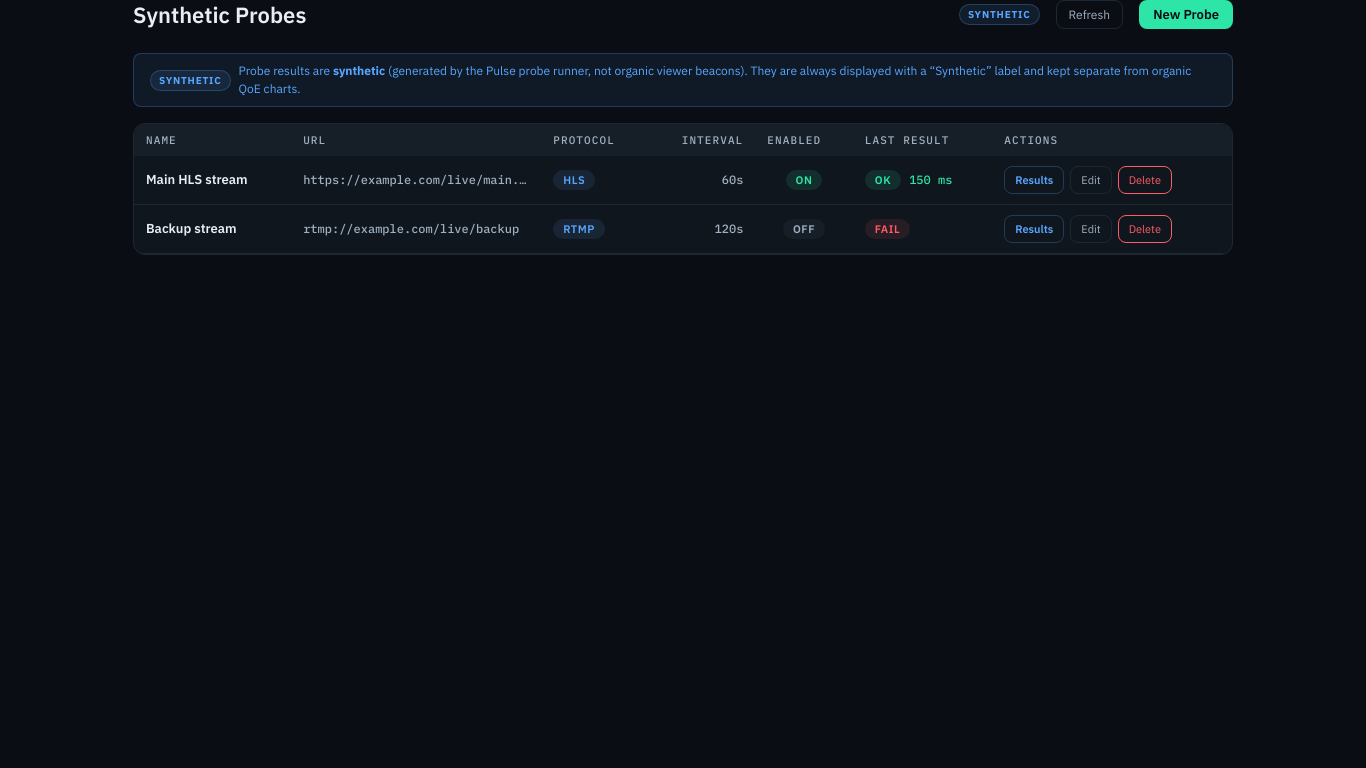
ProbesPage delete confirm › shows delete confirm dialog when delete clicked
The image size is (1366, 768).
Check: the text "Main HLS stream" is shown, box [134,156,291,204]
Click the button with aria-label "delete probe". click: (1145, 180)
box: [1118,166,1172,194]
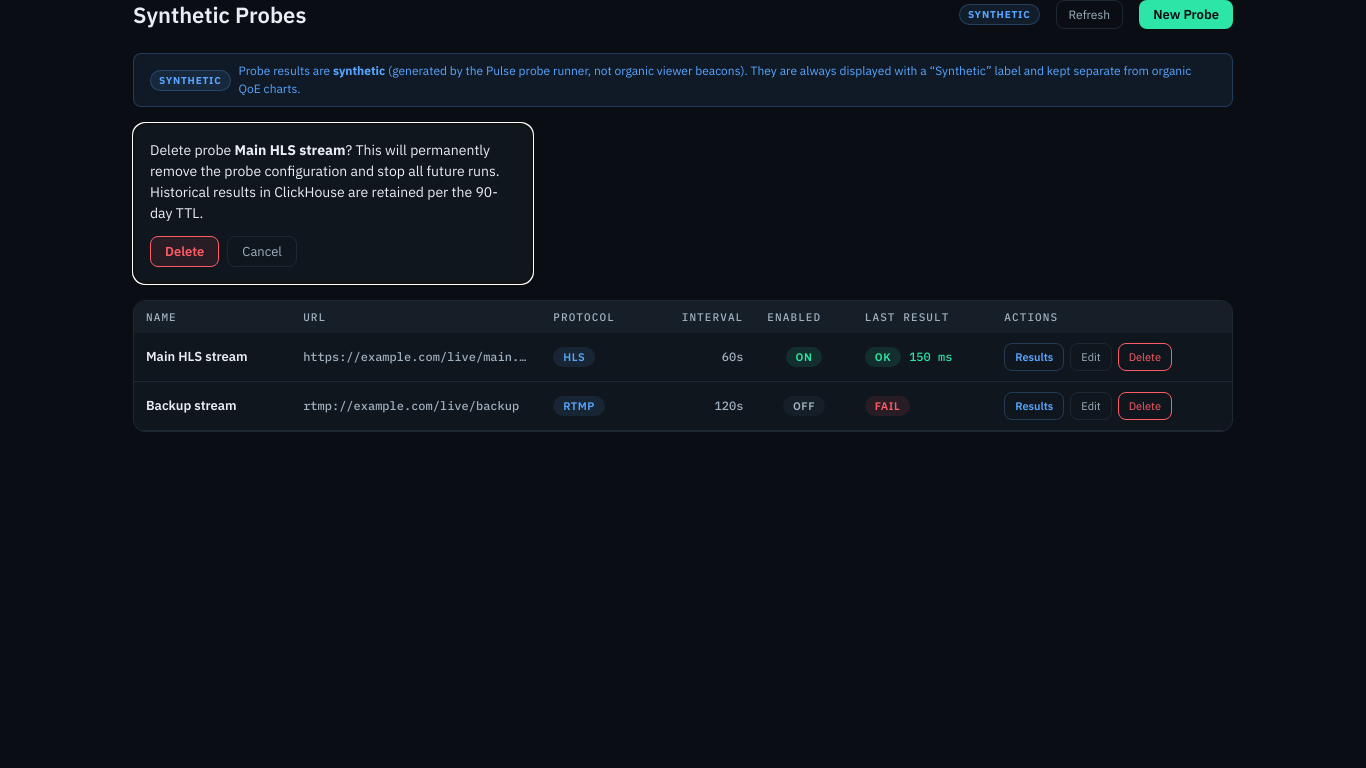
Check: the dialog named "confirm probe deletion" is shown, box [133,123,533,284]
